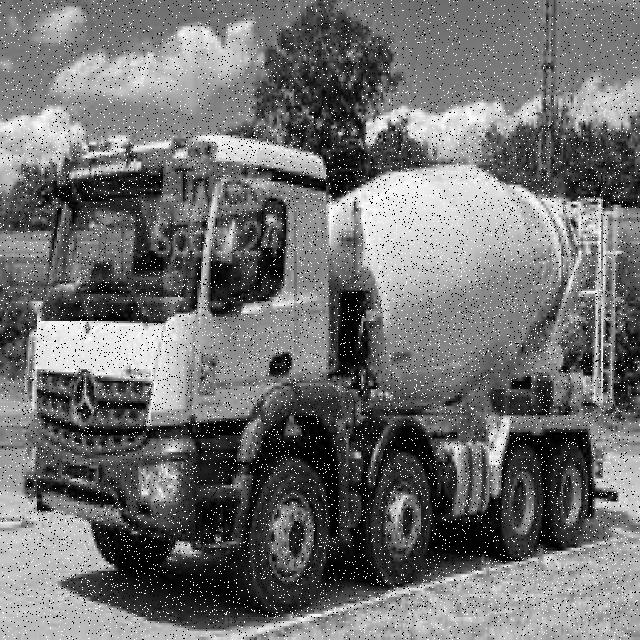Concrete Mixer: (23, 127, 625, 618)
